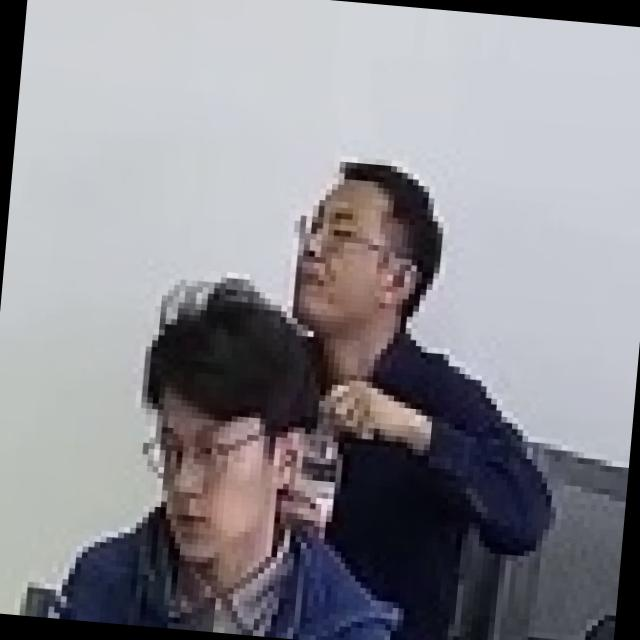drink: (220, 147, 591, 640)
listen: (106, 271, 339, 640)
